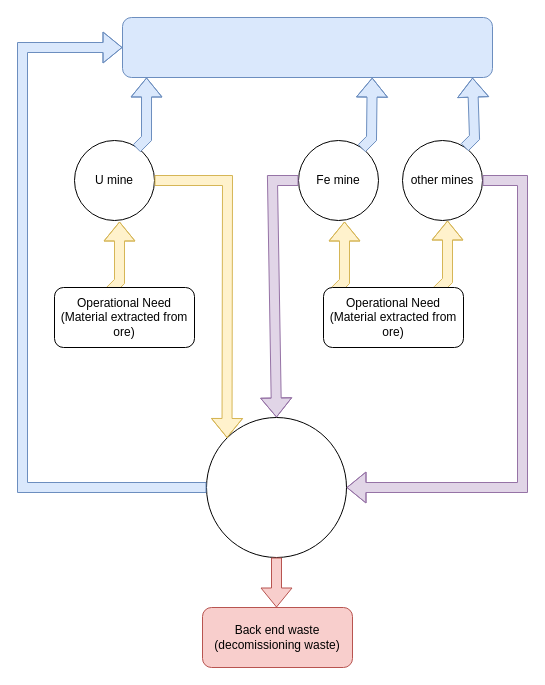
This 545x685 diagram has some shape labels left out. Here are the shapes that lost their labels. From the top down, the centre of each, then its label:
At point 307,47: "Operational waste".
At point 276,487: "Power Plant".
